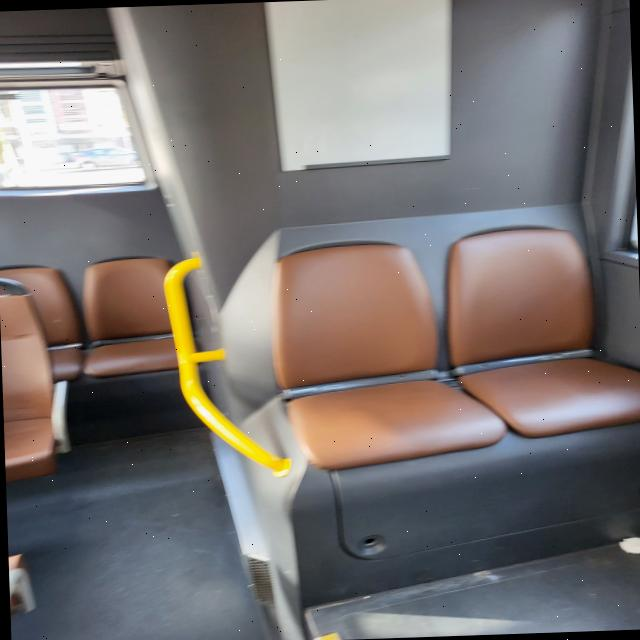empty-seat-frontal: (266, 235, 504, 470), (444, 223, 640, 446), (78, 246, 188, 388), (0, 273, 71, 481)
